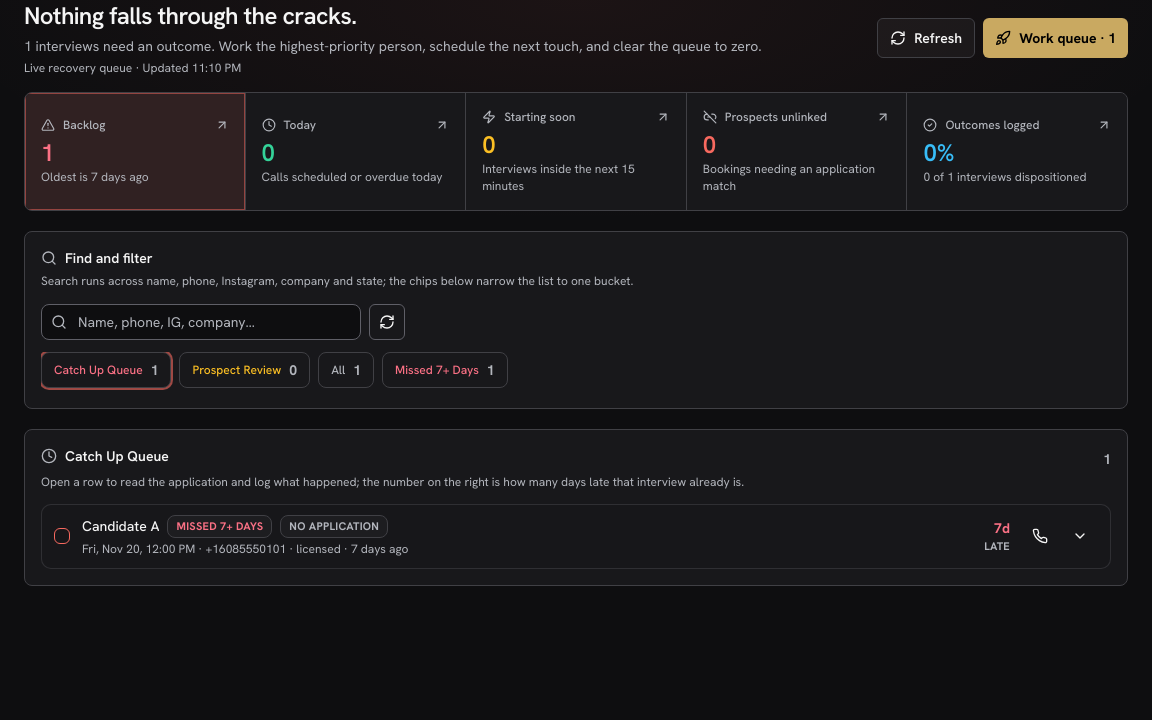
Test case: interview recovery handoffs › offers a real application search for an unlinked prospect while preserving the hire block
This screenshot has width=1152, height=720.
Step 1. Click the button "Work queue · 1" → x=1056, y=38, box [983,18,1128,58]
(page scrolled)
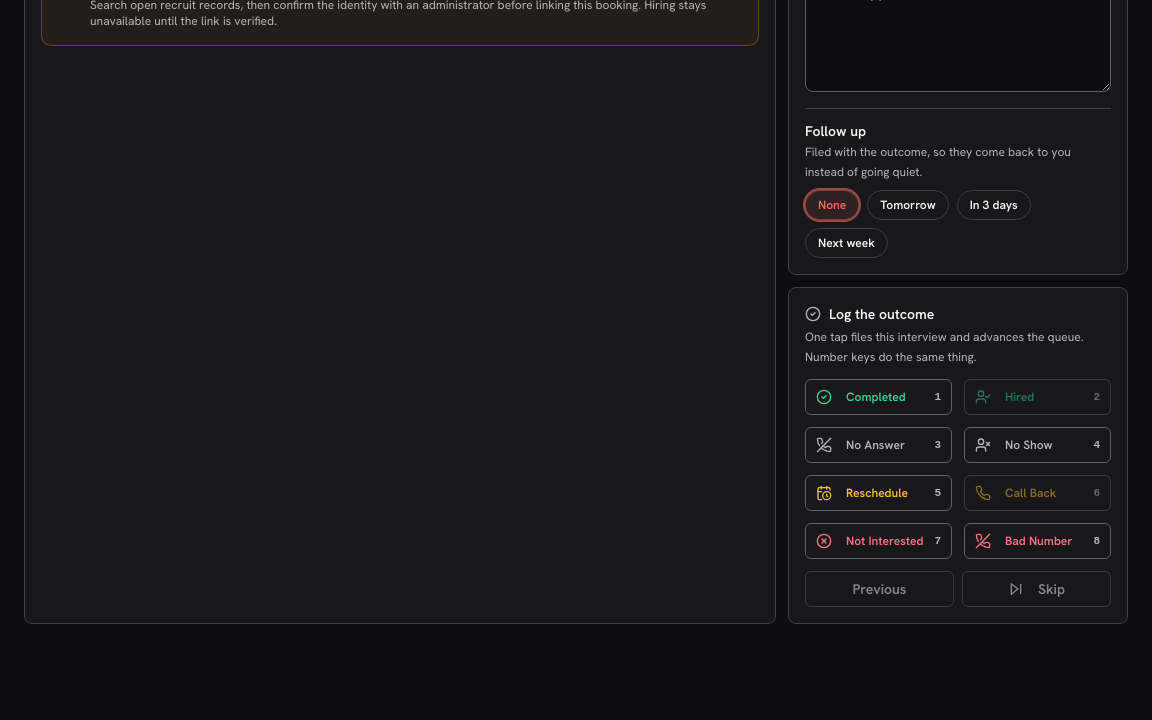
Expected: the button with aria-label "Hired — Candidate A" is disabled, [964,379,1111,415]
